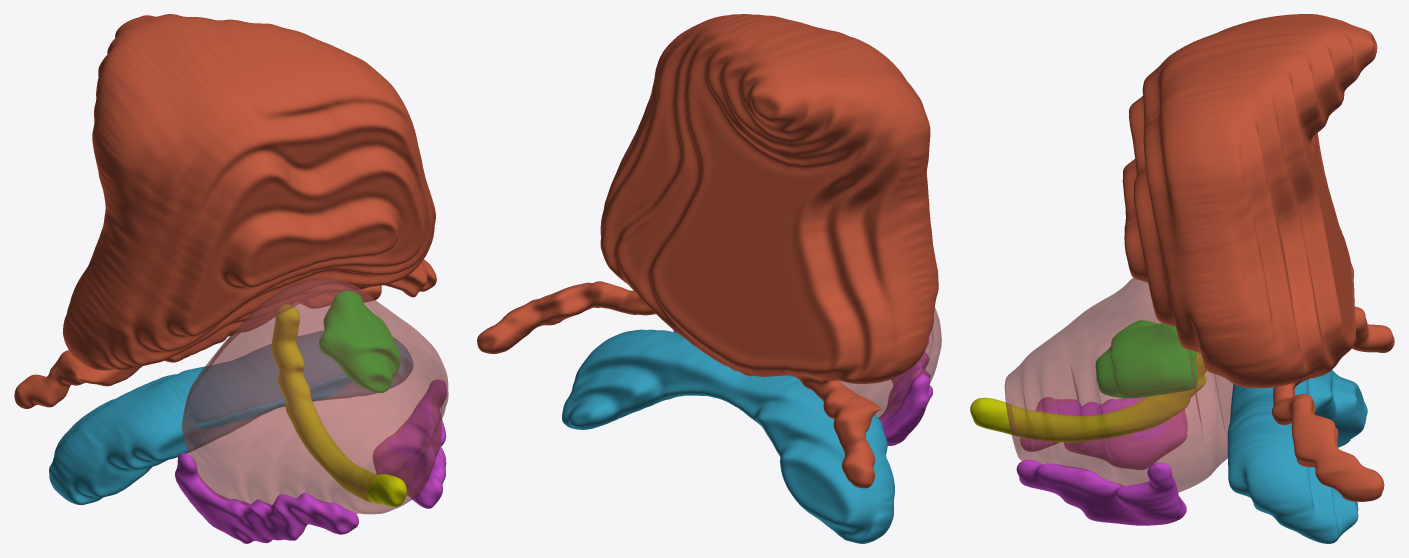
Rendered from prostate_cancer.glb.
3 views of the same model, side by side, from view 1: azimuth 30°, elevation 25°; view 2: azimuth 150°, elevation 25°; view 3: azimuth 270°, elevation 25° (orthographic).
Visible parts, largest first — view 1: Object_7, Object_2, Object_6, Object_3, Object_4, Object_5; view 2: Object_7, Object_6, Object_8, Object_3, Object_2; view 3: Object_7, Object_2, Object_6, Object_3, Object_4, Object_5, Object_8.
Part boxes in pixels (x1,y1,x2,y2): Object_7: [14, 14, 436, 408]; Object_2: [182, 277, 448, 514]; Object_6: [49, 330, 413, 505]; Object_3: [175, 379, 446, 543]; Object_4: [271, 304, 406, 506]; Object_5: [319, 290, 400, 392]; Object_7: [477, 14, 938, 488]; Object_6: [562, 329, 894, 543]; Object_8: [506, 41, 882, 455]; Object_3: [672, 329, 932, 445]; Object_2: [839, 307, 941, 420]; Object_7: [1122, 14, 1394, 501]; Object_2: [1004, 277, 1233, 492]; Object_6: [1227, 370, 1367, 543]; Object_3: [1016, 397, 1187, 525]; Object_4: [970, 352, 1206, 442]; Object_5: [1095, 320, 1197, 398]; Object_8: [1276, 14, 1376, 477].
Size of the model in its own units: 71.92 by 78.44 by 65.84.
